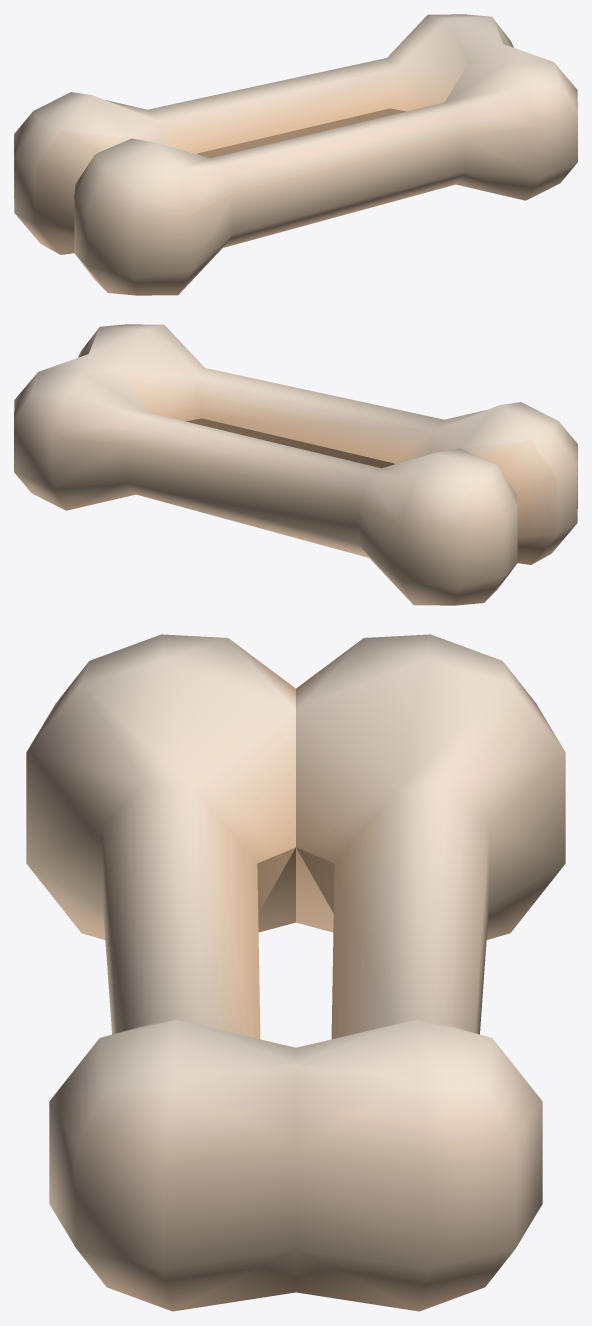
The model's file is bone_b.glb.
3 views of the same model, one above another, from view 1: azimuth 30°, elevation 25°; view 2: azimuth 150°, elevation 25°; view 3: azimuth 270°, elevation 25° (orthographic). The views are drawn at different scales.
Visible parts, largest first — view 1: bone_B; view 2: bone_B; view 3: bone_B.
Boxes of the visible parts, x1,y1,x2,y2 form: bone_B: [14, 14, 577, 295]; bone_B: [14, 324, 577, 605]; bone_B: [26, 634, 565, 1311].
Size of the model in its own units: 0.6063 by 0.1747 by 0.2867.
Materials: 1 (1 with a texture image).
